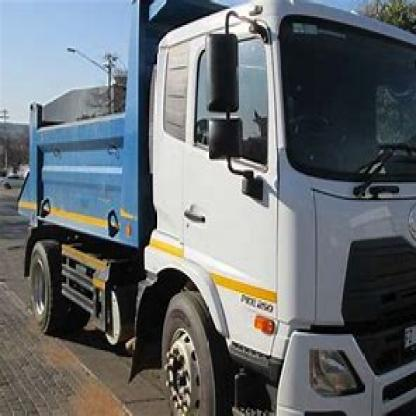dump_truck: (0, 2, 413, 414)
